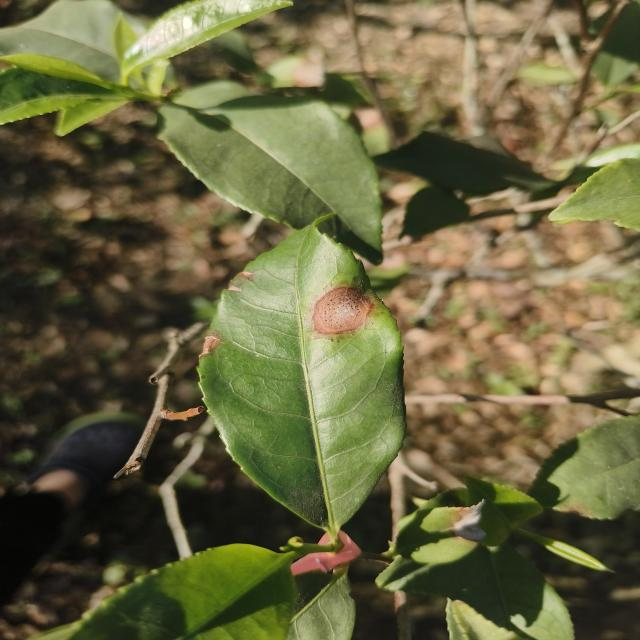Leaf: (198, 225, 405, 533), (158, 83, 382, 262), (58, 544, 295, 640), (122, 0, 291, 76), (446, 543, 574, 640), (528, 416, 640, 519), (0, 0, 120, 83), (0, 0, 120, 82), (0, 68, 122, 124), (549, 159, 640, 230), (376, 547, 484, 600), (465, 476, 542, 546), (394, 505, 485, 563), (593, 0, 640, 87), (0, 54, 110, 88), (400, 186, 469, 239), (54, 99, 128, 136), (591, 12, 611, 32)
